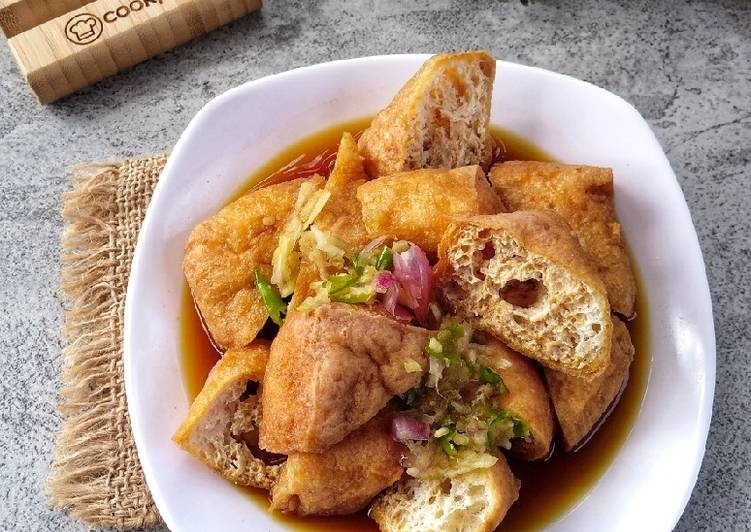tahu_gejrot: (170, 50, 640, 532)
